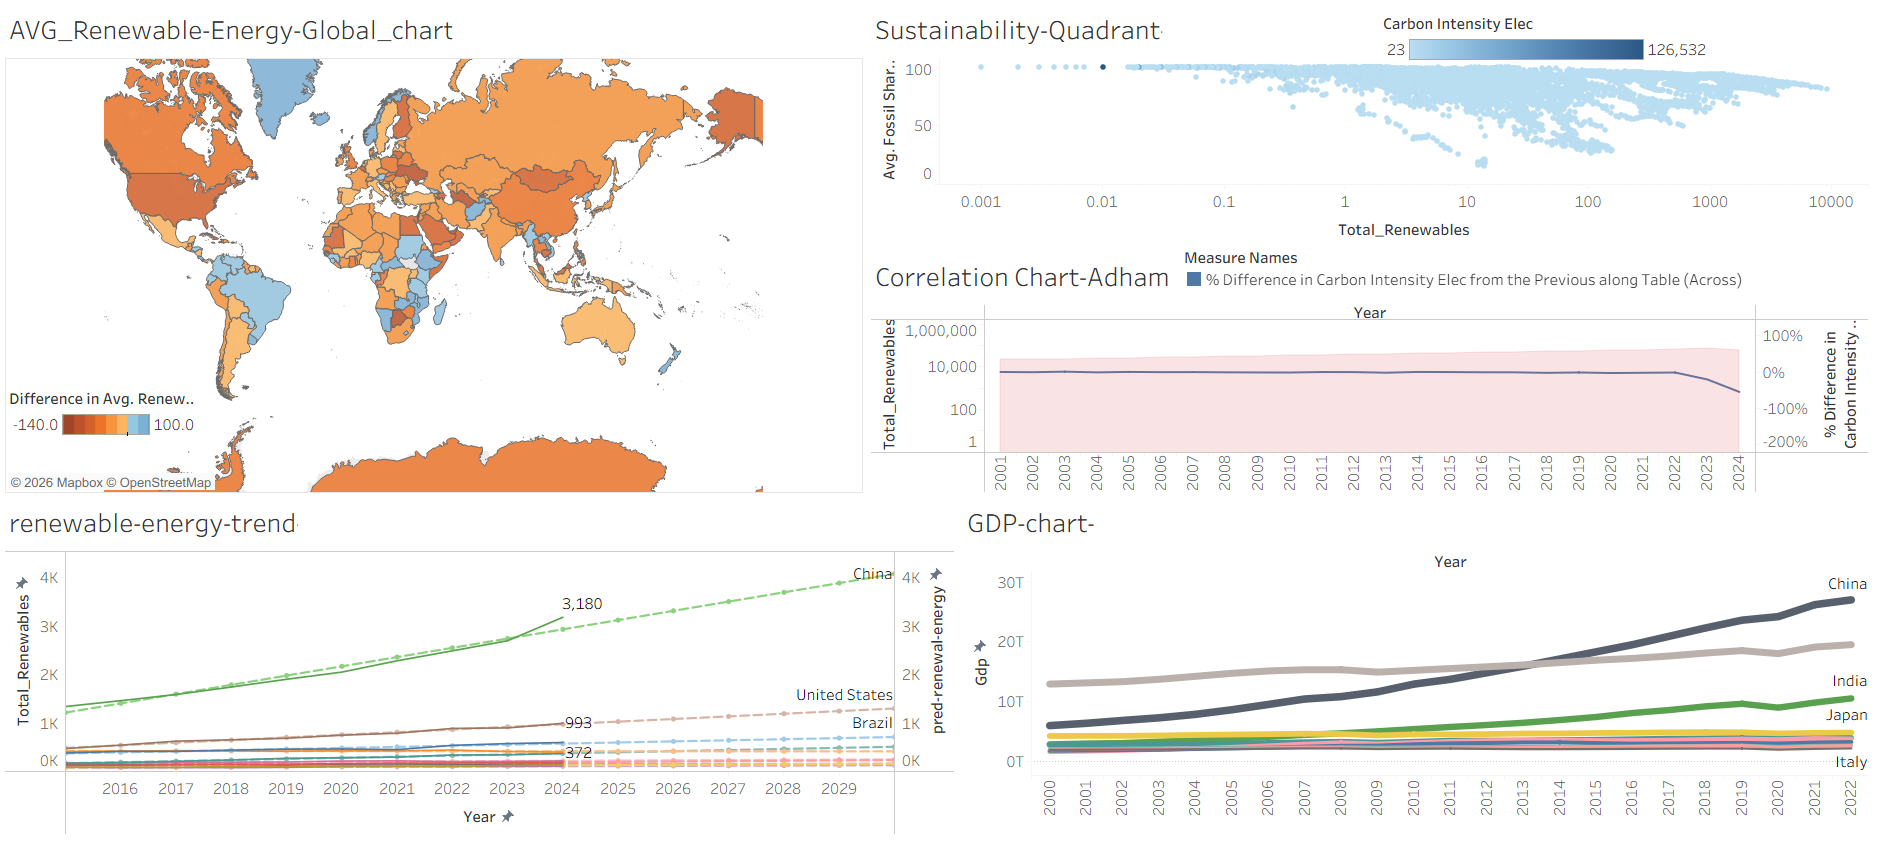

This screenshot's page, from the dashboard's own definition file:
{"tool":"tableau","page":{"name":"Dashboard 1","canvas":[1000,1000],"units":"permille","ordinal":0},"visuals":[{"type":"worksheet","title":"AVG_Renewable-Energy-Global_chart_Adham","mark":"Automatic","box":[4.8,9.4,492.9,580.5]},{"type":"worksheet","title":"Sustainability-Quadrant-ِAdham","mark":"Circle","rows":["fossil_share_energy"],"cols":["Calculation_1637058490379616256"],"box":[497.7,9.4,497.4,290.2]},{"type":"legend","title":"Sustainability-Quadrant-ِAdham","param":"[federated.1oclgkp1nye7wg10bmw3405gyr9f].[sum:carbon_intensity_elec:qk]","box":[736.3,20,173.8,56.4]},{"type":"legend","title":"Correlation Chart-Adham","param":"[federated.1oclgkp1nye7wg10bmw3405gyr9f].[:Measure Names]","box":[630.7,294.9,368.7,75.2]},{"type":"worksheet","title":"Correlation Chart-Adham","mark":"Line","rows":["Calculation_1637058490379616256","carbon_intensity_elec"],"cols":["year"],"box":[497.7,299.6,497.4,290.2]},{"type":"legend","title":"AVG_Renewable-Energy-Global_chart_Adham","param":"[federated.1oclgkp1nye7wg10bmw3405gyr9f].[diff:avg:renewables_share_elec:qk]","box":[8.4,460.6,100.8,103.4]},{"type":"worksheet","title":"renewable-energy-trend-Adham","mark":"Line","rows":["Calculation_1637058490379616256"],"cols":["year"],"box":[4.8,589.9,663.9,400.7]},{"type":"worksheet","title":"GDP-chart-Adham","mark":"Line","rows":["gdp"],"cols":["year"],"box":[668.7,589.9,326.5,400.7]}]}

Visuals, with their boxes on the dashboard's canvas, which has no fixed pixel size, in thousandths of its width and height (x1, y1, x2, y2). These are canvas units, not pixel positions in the 1878x841 screenshot, which may show the page scaled, cropped or inside an application window:
"AVG_Renewable-Energy-Global_chart_Adham" worksheet: 5 9 498 590
"Sustainability-Quadrant-ِAdham" worksheet (Circle marks): 498 9 995 300
"Sustainability-Quadrant-ِAdham" legend: 736 20 910 76
"Correlation Chart-Adham" legend: 631 295 999 370
"Correlation Chart-Adham" worksheet (Line marks): 498 300 995 590
"AVG_Renewable-Energy-Global_chart_Adham" legend: 8 461 109 564
"renewable-energy-trend-Adham" worksheet (Line marks): 5 590 669 991
"GDP-chart-Adham" worksheet (Line marks): 669 590 995 991
